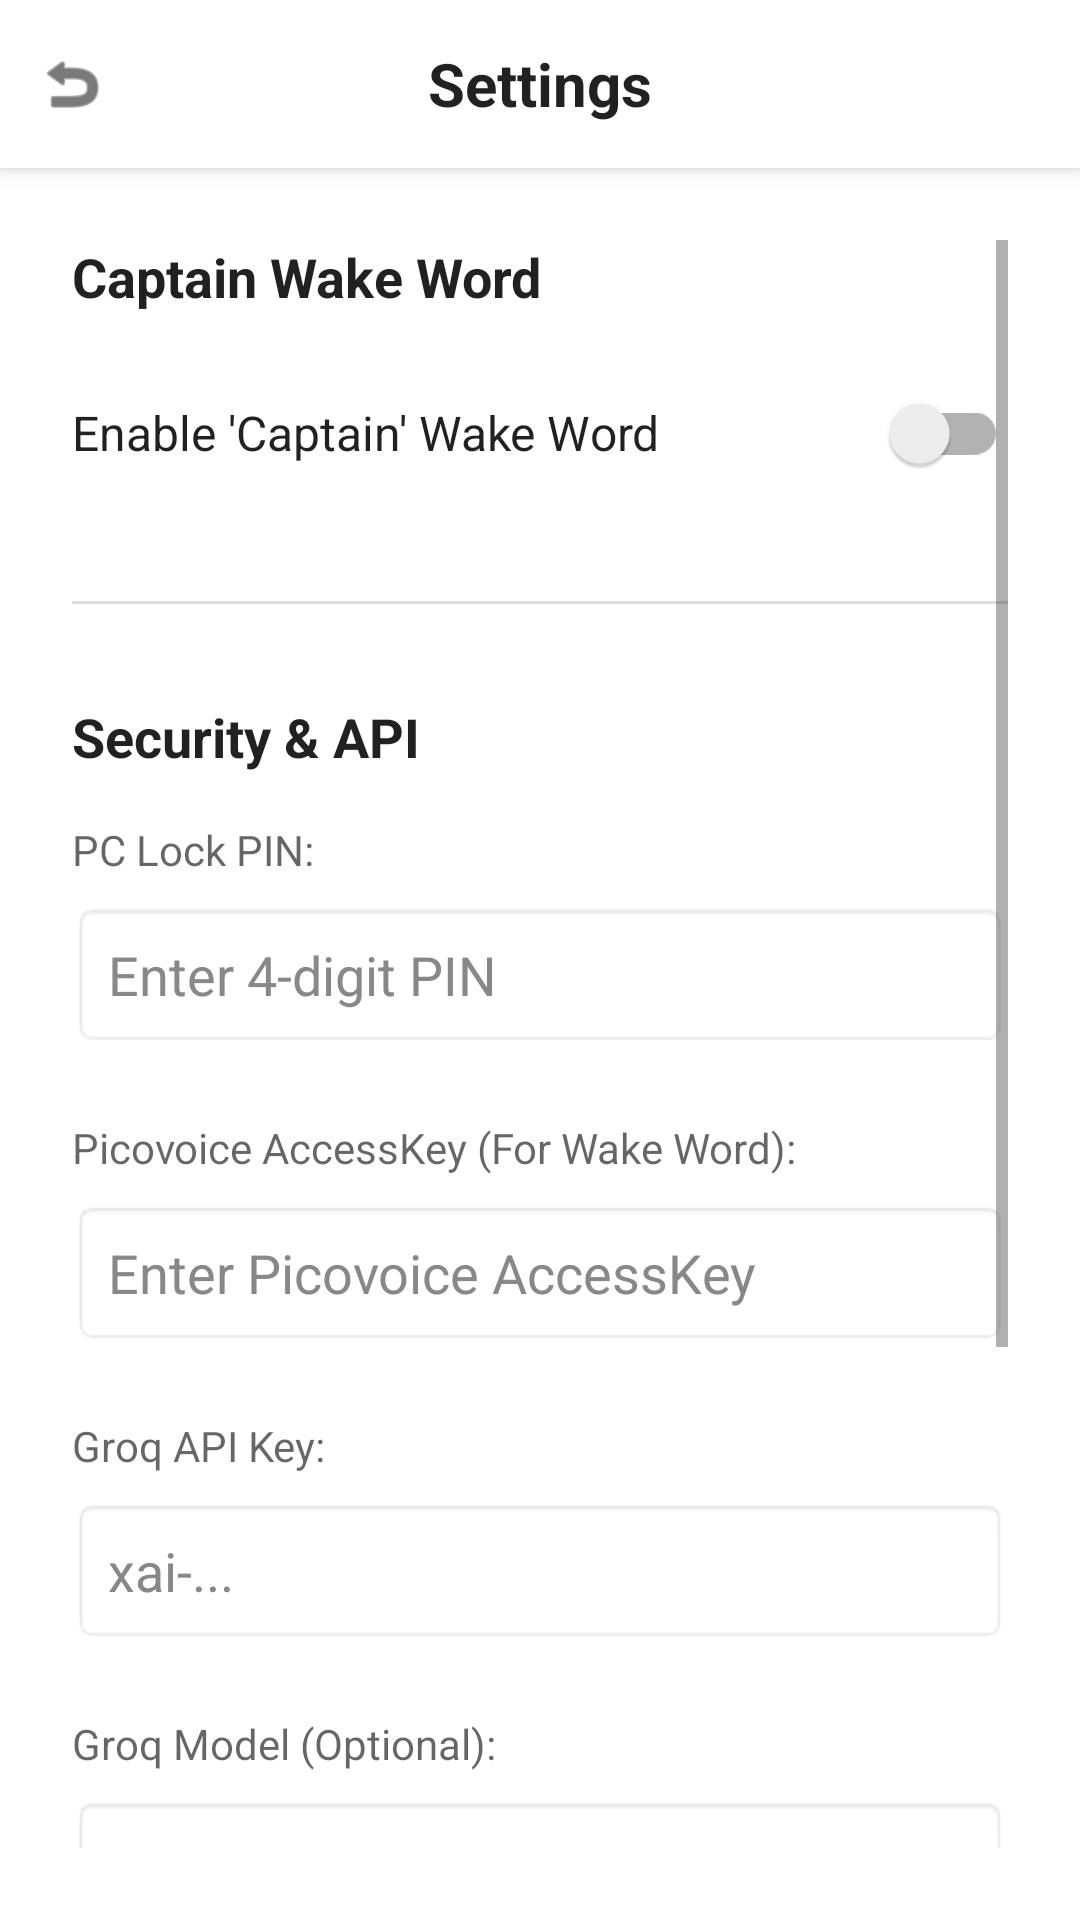

Icons on this 1080 x 1920 Android screen, each with the point to tap as point (x, y):
Back: point (73, 84)
